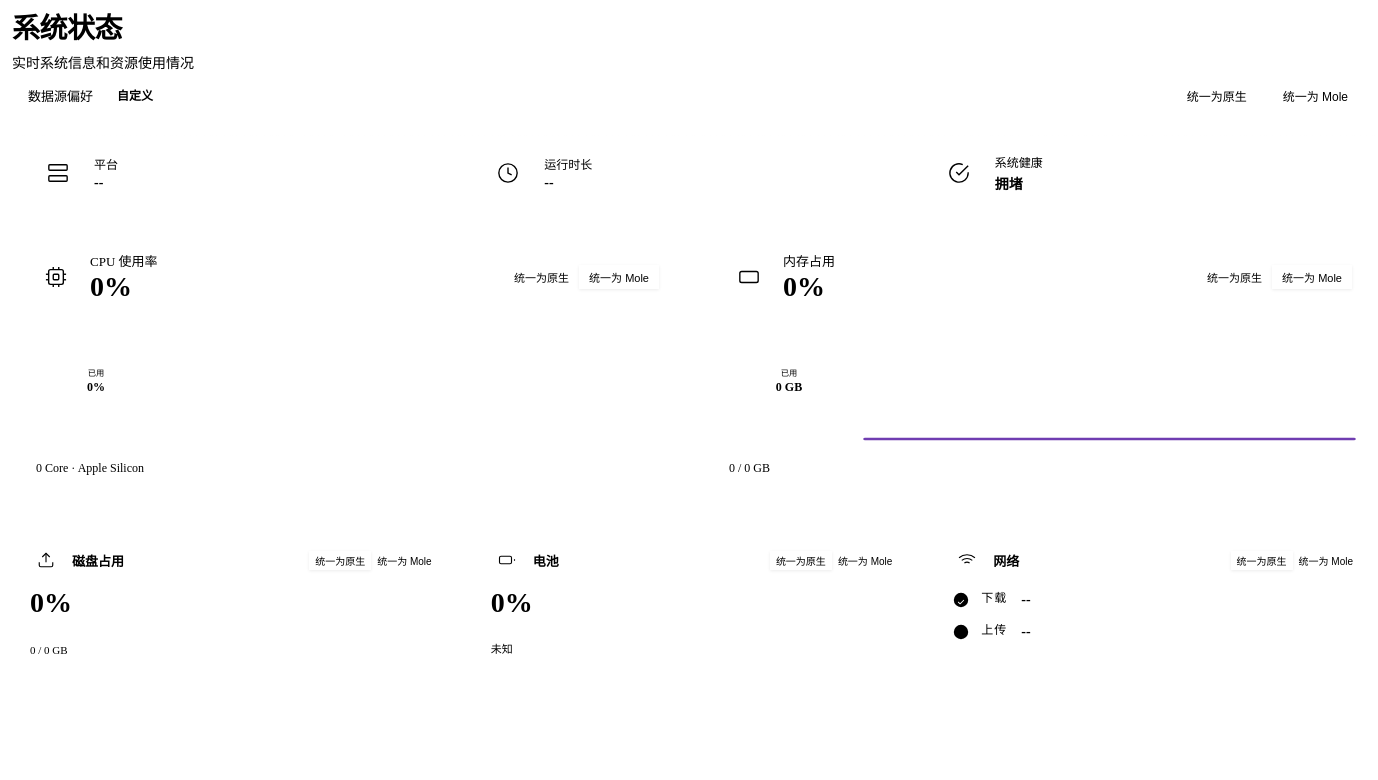
Scenario: StatusView 组件 › 深层交互测试 › 数据源偏好 › setAllModules('native') 设置全部模块为原生并保存
Step 1. Click the button with class "source-action-btn" in the row of "自定义" → (1217, 95), box [1173,82,1261,109]
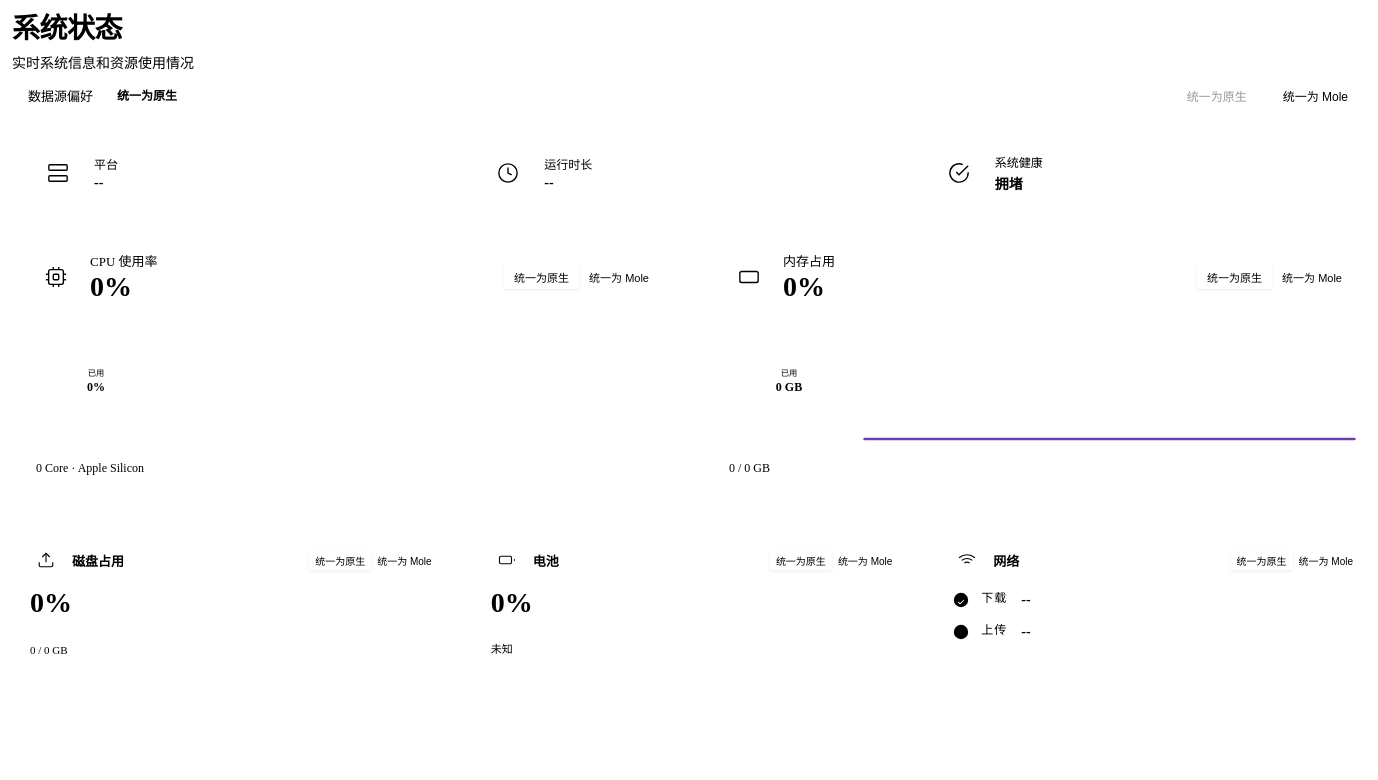
Expected: the text "统一为原生" is shown, [117,89,177,103]
